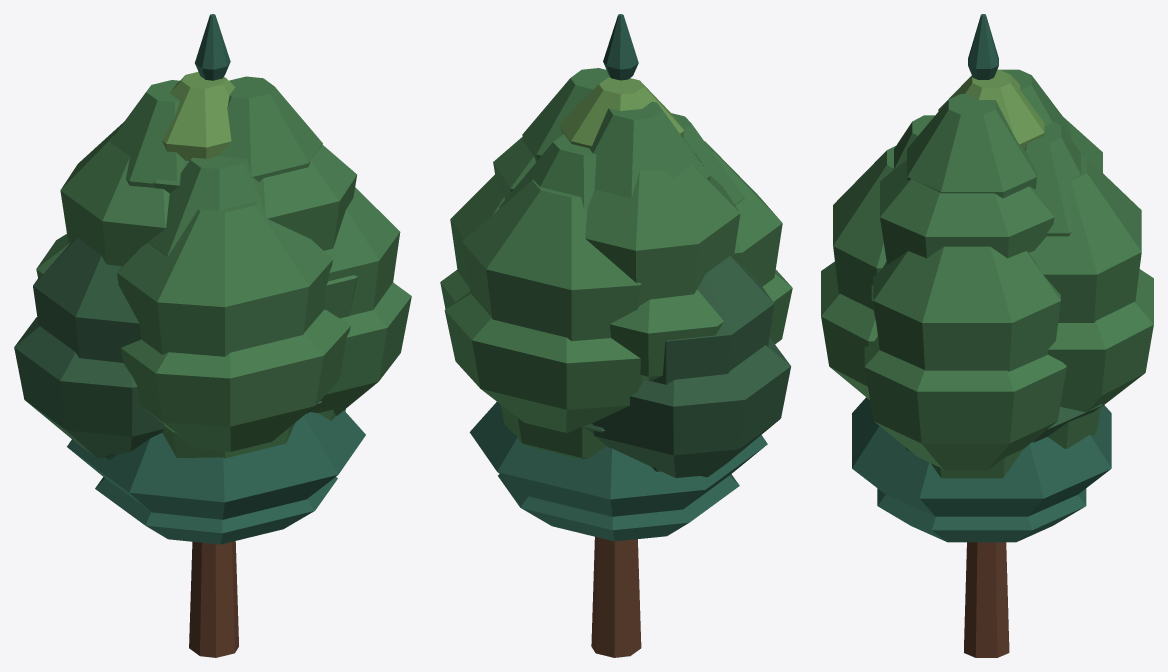
File: forest-lod2.glb
The picture shows the model from 3 angles, left to right: view 1: azimuth 30°, elevation 25°; view 2: azimuth 150°, elevation 25°; view 3: azimuth 270°, elevation 25°; orthographic projection.
Visible parts, largest first — view 1: 01_beech, 00_oak, 03_birch, 04_spruce, 05_young_fir, 02_young_oak; view 2: 01_beech, 00_oak, 03_birch, 04_spruce, 05_young_fir, 02_young_oak; view 3: 01_beech, 00_oak, 03_birch, 04_spruce, 05_young_fir, 02_young_oak.
Part boxes in pixels (box(x1,y1,x2,y2)): 01_beech: box(33, 121, 400, 657); 00_oak: box(14, 234, 411, 458); 03_birch: box(110, 71, 322, 256); 04_spruce: box(67, 14, 365, 519); 05_young_fir: box(95, 477, 337, 544); 02_young_oak: box(105, 409, 345, 459); 01_beech: box(450, 137, 782, 657); 00_oak: box(440, 269, 792, 477); 03_birch: box(499, 68, 744, 209); 04_spruce: box(469, 14, 767, 516); 05_young_fir: box(498, 474, 739, 541); 02_young_oak: box(500, 404, 661, 471); 01_beech: box(833, 117, 1141, 657); 00_oak: box(821, 261, 1153, 470); 03_birch: box(893, 69, 1081, 258); 04_spruce: box(852, 14, 1111, 516); 05_young_fir: box(877, 488, 1086, 542); 02_young_oak: box(905, 406, 1100, 478).
Size of the model in its own units: 11.89 by 22 by 10.51.
